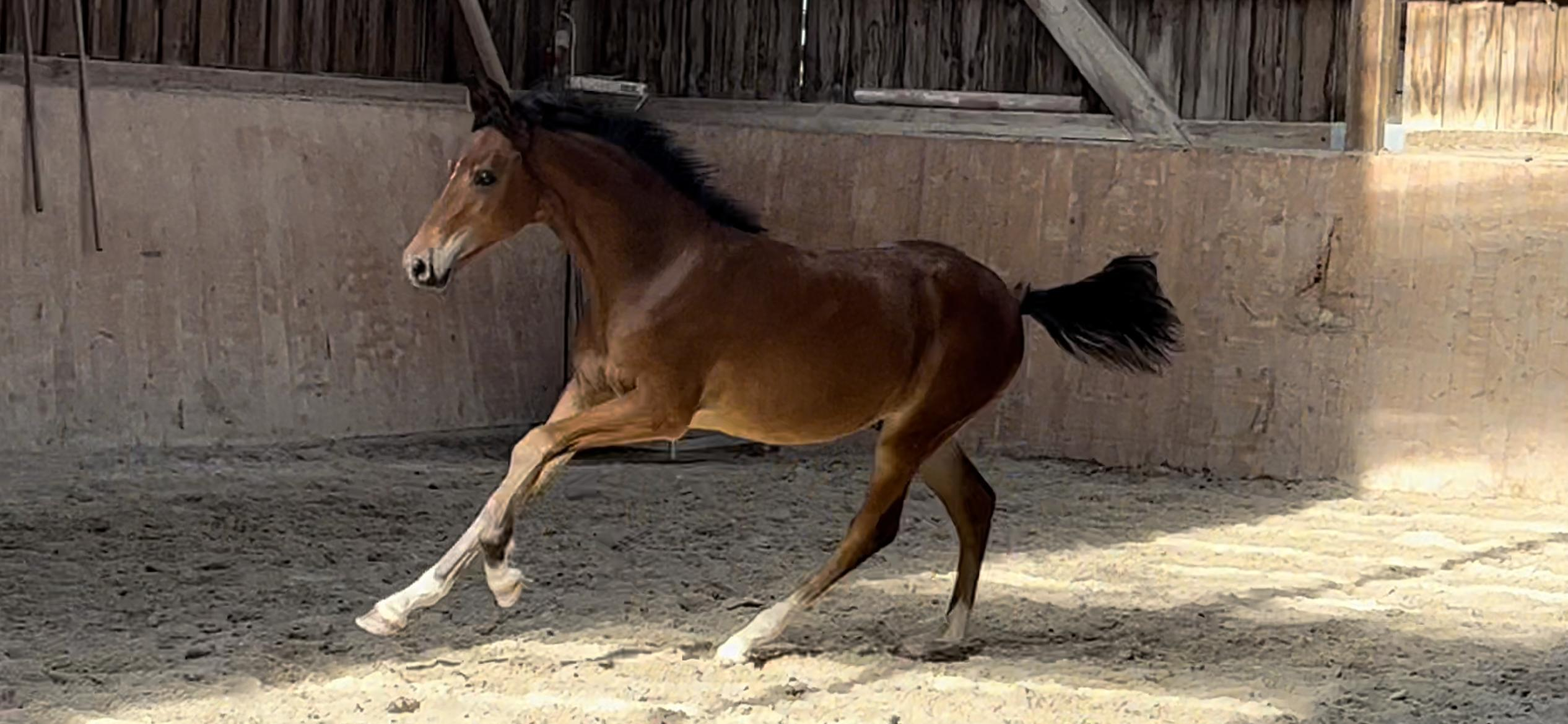horse: (353, 72, 1185, 666)
